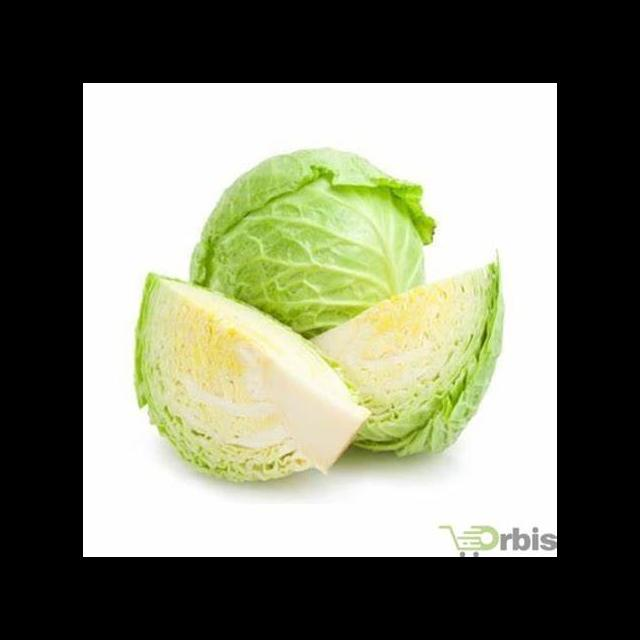cabbage: (133, 273, 375, 485), (188, 148, 437, 340), (310, 258, 506, 458)
